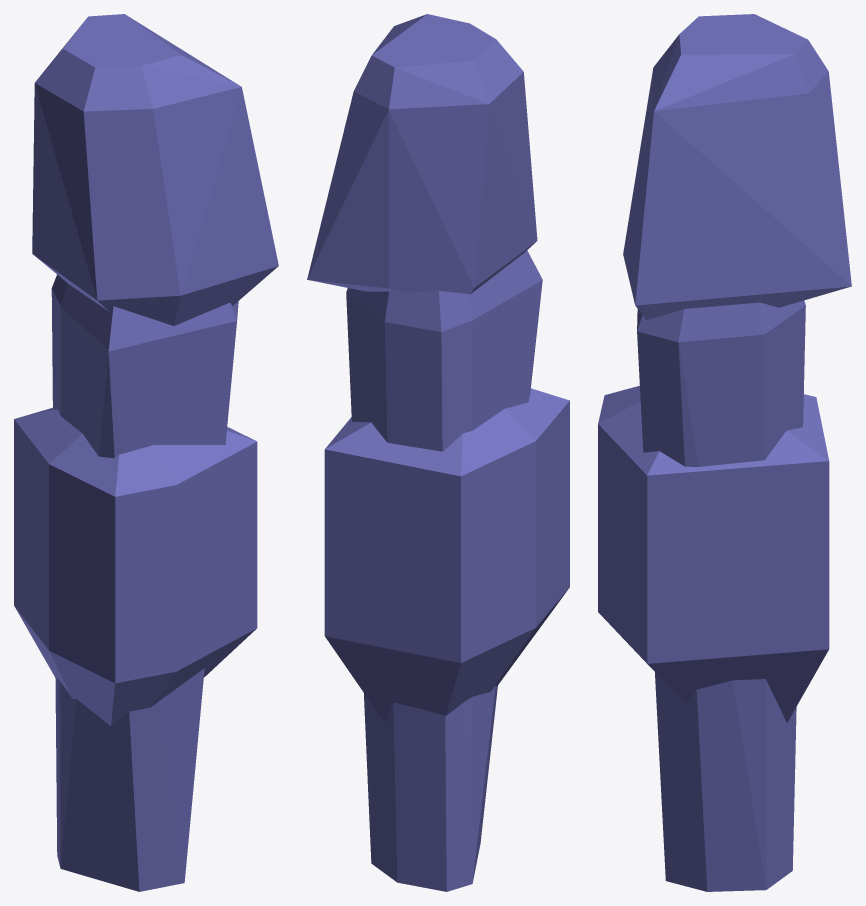
File: Cliff_Spire_08_Collider_01.FBX
3 renders of one model, left to right at view 1: azimuth 30°, elevation 25°; view 2: azimuth 150°, elevation 25°; view 3: azimuth 270°, elevation 25°, orthographic.
Visible parts, largest first — view 1: COLLIDER2, COLLIDER3, COLLIDER1; view 2: COLLIDER2, COLLIDER3, COLLIDER1; view 3: COLLIDER3, COLLIDER2, COLLIDER1.
Part boxes in pixels (left/top/right/bottom): COLLIDER2: left=14, top=407, right=257, bottom=725; COLLIDER3: left=32, top=14, right=278, bottom=325; COLLIDER1: left=51, top=274, right=238, bottom=891; COLLIDER2: left=324, top=388, right=569, bottom=722; COLLIDER3: left=307, top=14, right=537, bottom=294; COLLIDER1: left=346, top=250, right=542, bottom=891; COLLIDER3: left=623, top=14, right=851, bottom=319; COLLIDER2: left=598, top=385, right=829, bottom=722; COLLIDER1: left=637, top=300, right=805, bottom=891.
Bounding box in the file's own units: 139 × 561 × 156.
